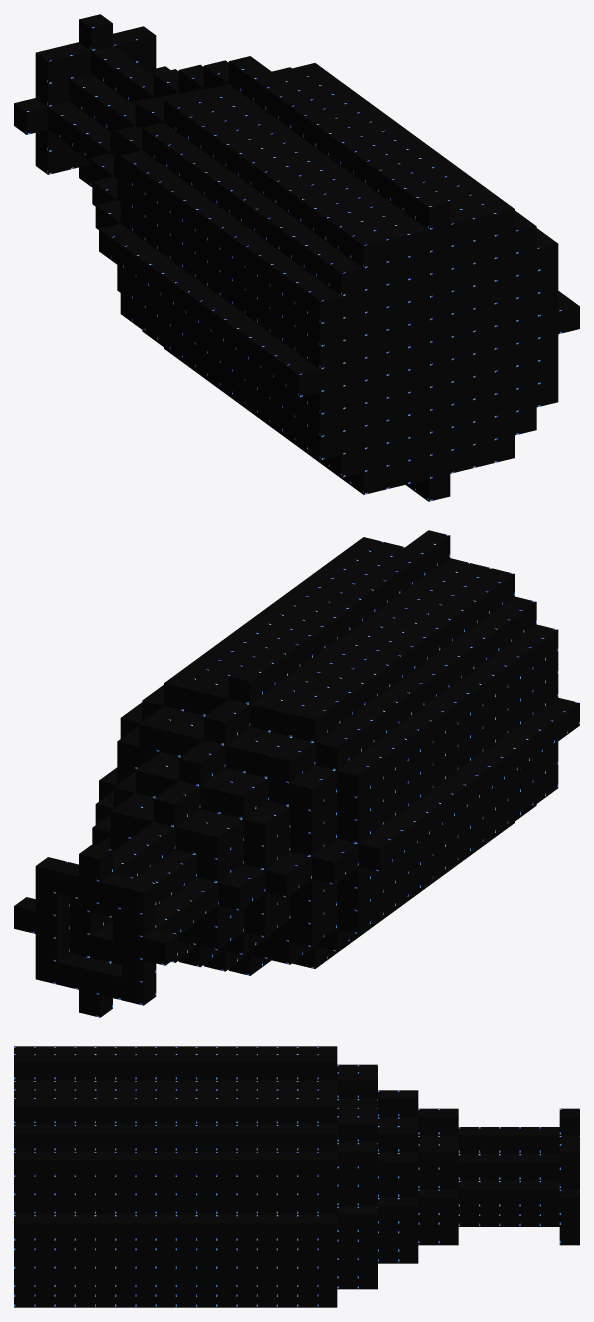
The model's file is bottiglia_usv.gltf.
3 views of the same model, one above another, from view 1: azimuth 30°, elevation 25°; view 2: azimuth 150°, elevation 25°; view 3: azimuth 270°, elevation 25° (orthographic). The views are drawn at different scales.
Parts seen in each view (by area): view 1: Layer.1; view 2: Layer.1; view 3: Layer.1.
Part boxes in pixels (left/top/right/bottom): Layer.1: left=14, top=14, right=579, bottom=501; Layer.1: left=14, top=530, right=579, bottom=1017; Layer.1: left=14, top=1046, right=579, bottom=1307.
Size of the model in its own units: 13 by 13 by 28.
Materials: 1 (1 with a texture image).
